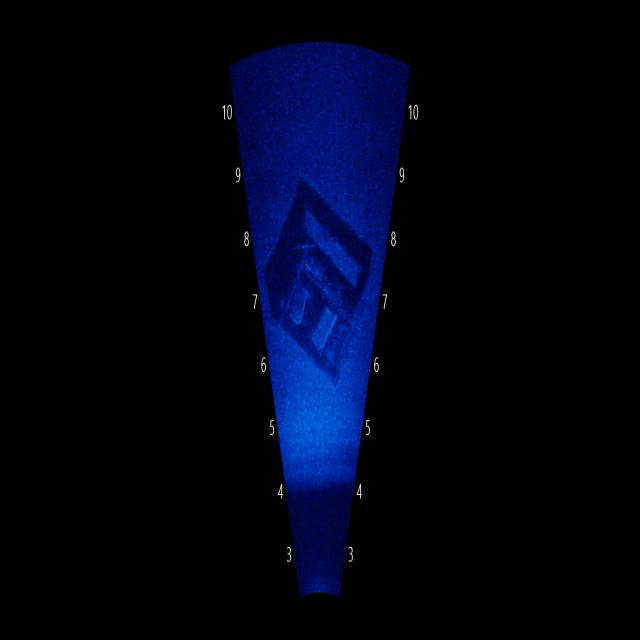square: (260, 157, 376, 399)
